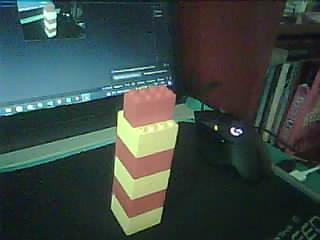lego: (110, 84, 180, 236)
